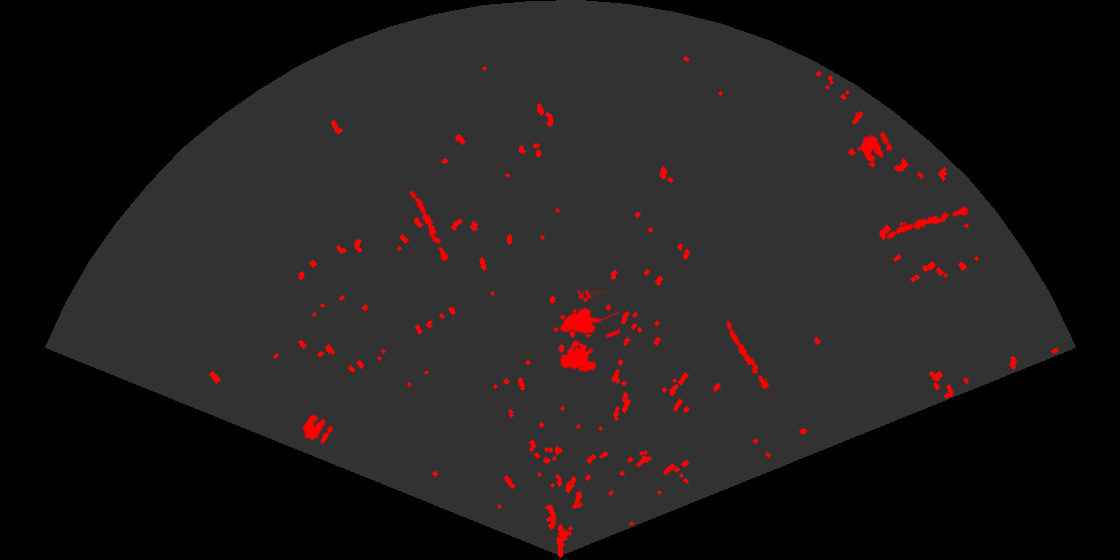ball: (858, 130, 894, 164), (301, 413, 335, 446)
cage: (551, 290, 620, 374)
chain: (725, 319, 775, 399), (884, 204, 972, 241), (408, 189, 451, 264)
